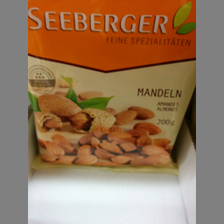nuts: (28, 1, 195, 172)
